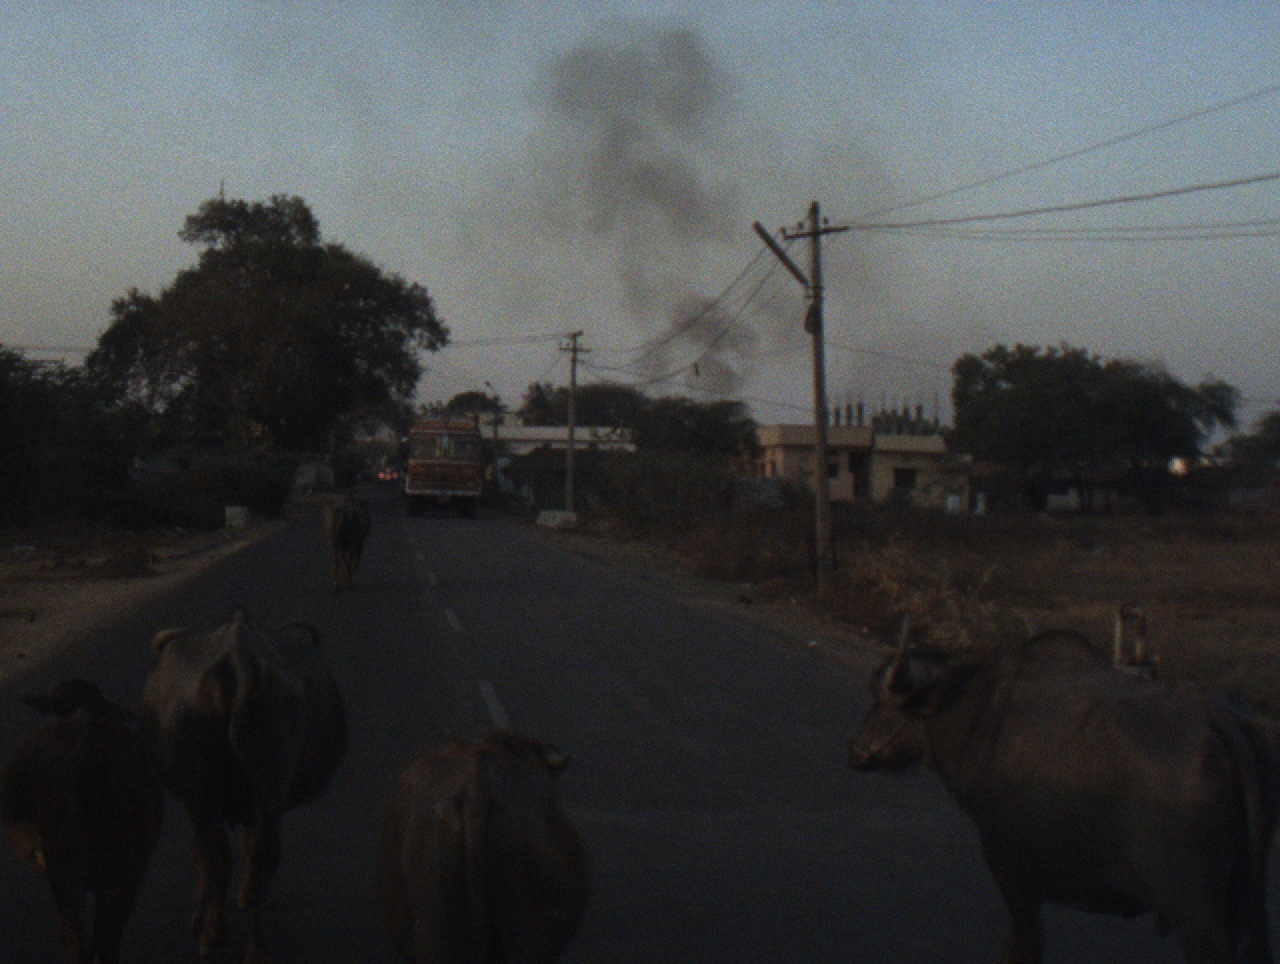animal: (842, 605, 1278, 963), (150, 602, 359, 962), (380, 716, 607, 960), (2, 668, 175, 963), (317, 485, 382, 596)
car: (374, 460, 400, 490)
truck: (395, 405, 489, 521)
